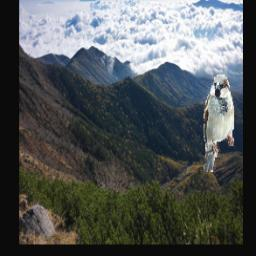Sparrow: (203, 76, 233, 173)
